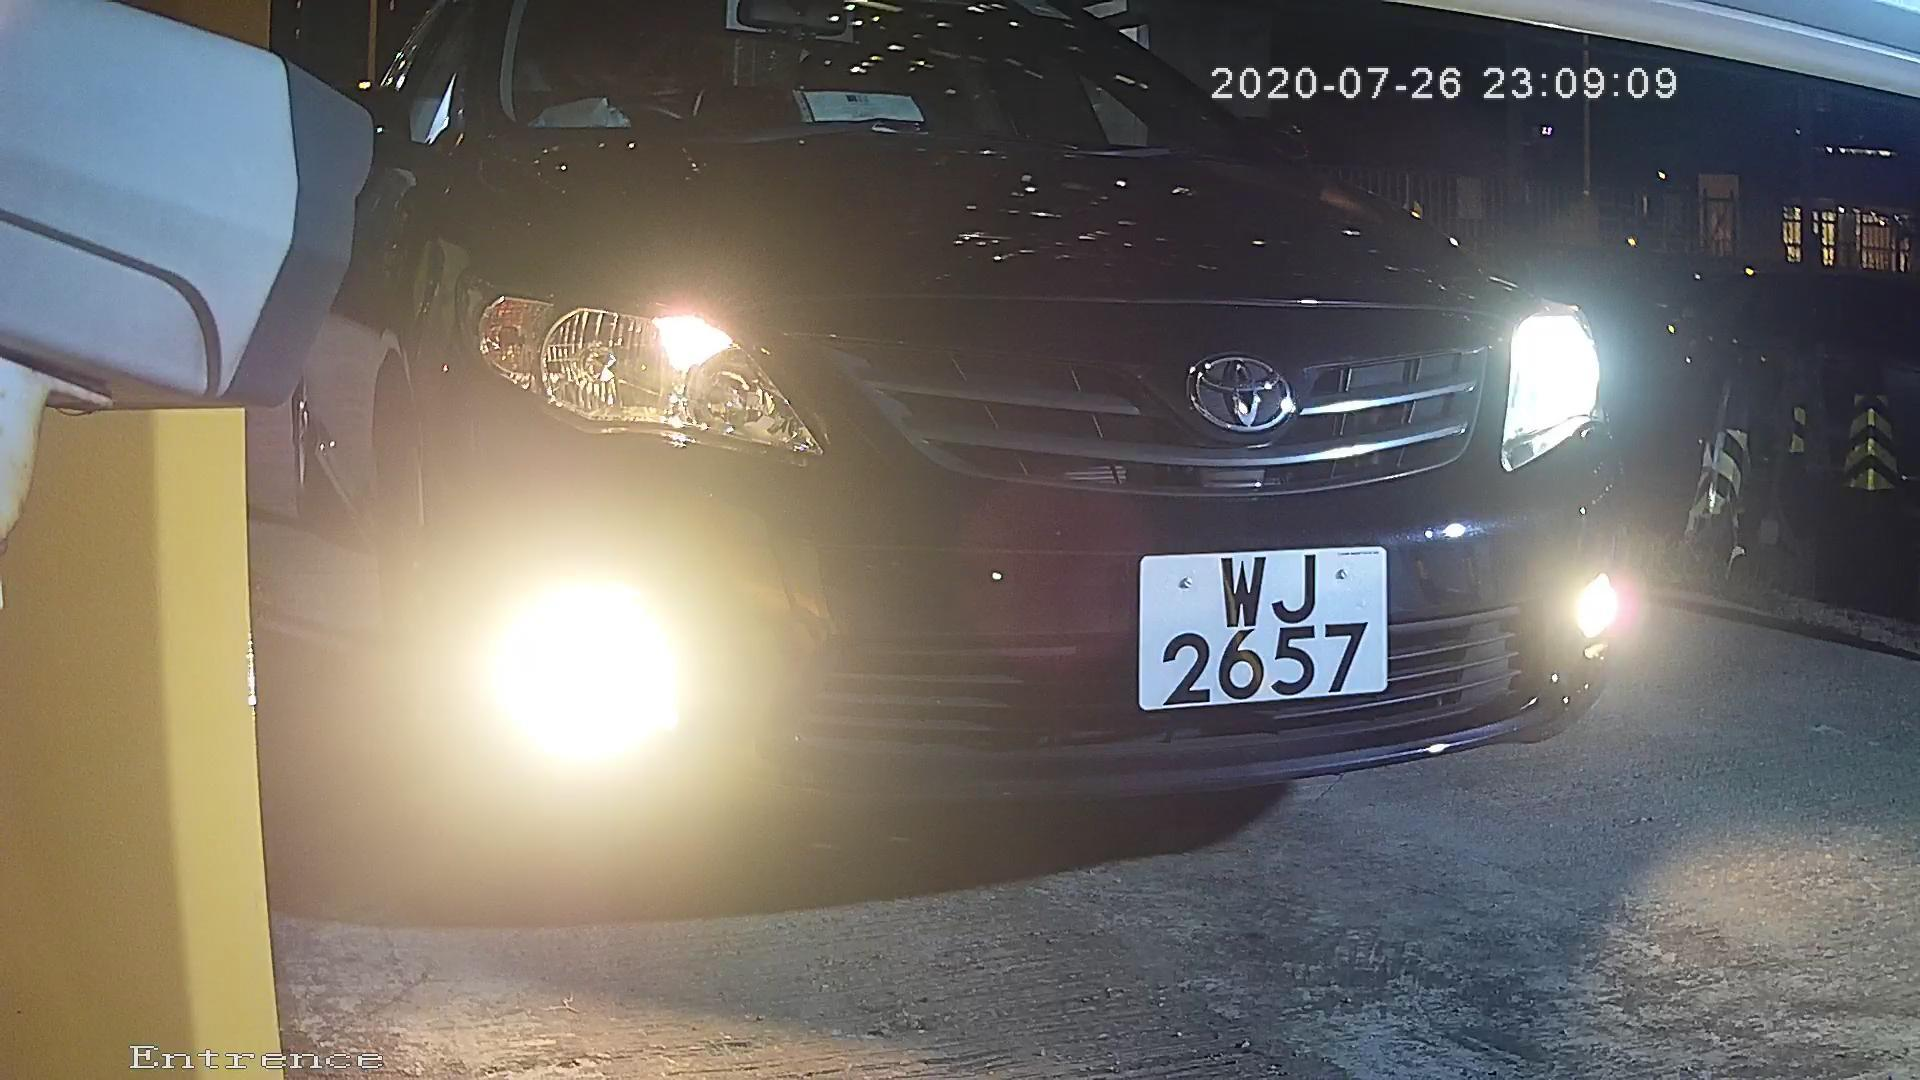License Plate: (1106, 526, 1415, 724)
